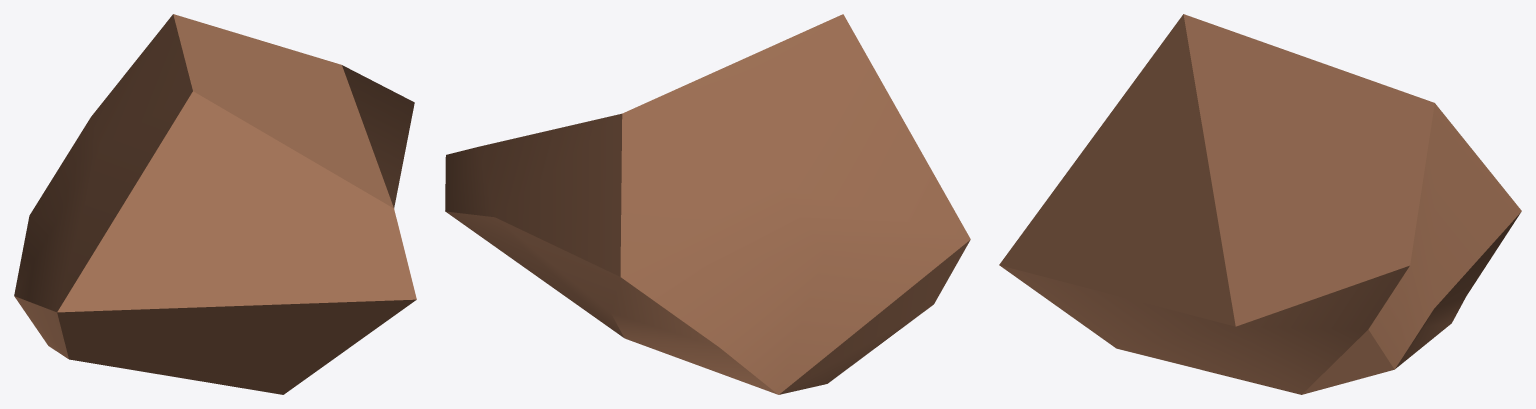
The model's file is rock_small_6.fbx.
3 renders of one model, left to right at view 1: azimuth 30°, elevation 25°; view 2: azimuth 150°, elevation 25°; view 3: azimuth 270°, elevation 25°, orthographic. The views are drawn at different scales.
Parts seen in each view (by area): view 1: Retopo_Rock generator addon.027; view 2: Retopo_Rock generator addon.027; view 3: Retopo_Rock generator addon.027.
Boxes of the visible parts, x1=… form: Retopo_Rock generator addon.027: x1=14, y1=14, x2=416, y2=394; Retopo_Rock generator addon.027: x1=445, y1=14, x2=970, y2=394; Retopo_Rock generator addon.027: x1=999, y1=14, x2=1521, y2=394.
Size of the model in its own units: 11.88 by 8.28 by 11.71.
